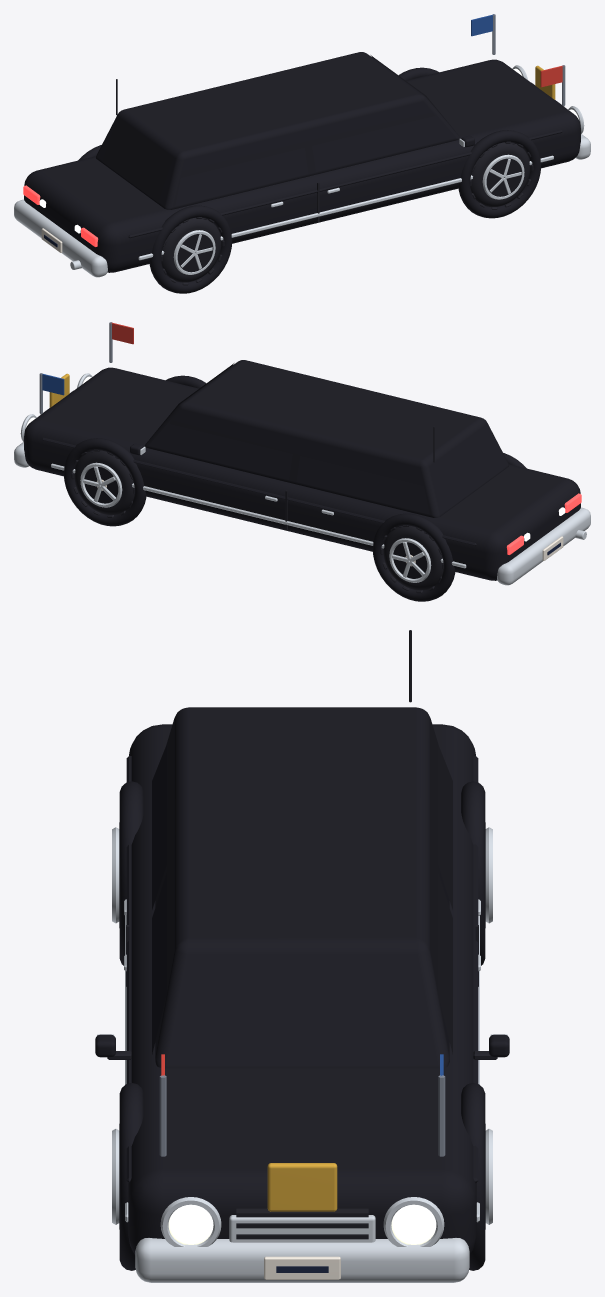
Rendered from mayor_limo.glb.
The picture shows the model from 3 angles, top to bottom: view 1: azimuth 30°, elevation 25°; view 2: azimuth 150°, elevation 25°; view 3: azimuth 270°, elevation 25°; orthographic projection. The views are drawn at different scales.
Visible parts, largest first — view 1: mayor_limo; view 2: mayor_limo; view 3: mayor_limo.
Boxes of the visible parts, box(x1,y1,x2,y2) form: mayor_limo: box(14, 14, 590, 293); mayor_limo: box(14, 322, 590, 601); mayor_limo: box(95, 630, 509, 1282).
Size of the model in its own units: 6.74 by 2.06 by 2.38.
1 material, 1 textured.
